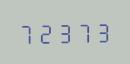seven: (18, 20, 36, 44), (75, 19, 93, 43)
three: (94, 19, 112, 43), (56, 20, 74, 43)
two: (37, 20, 55, 44)
